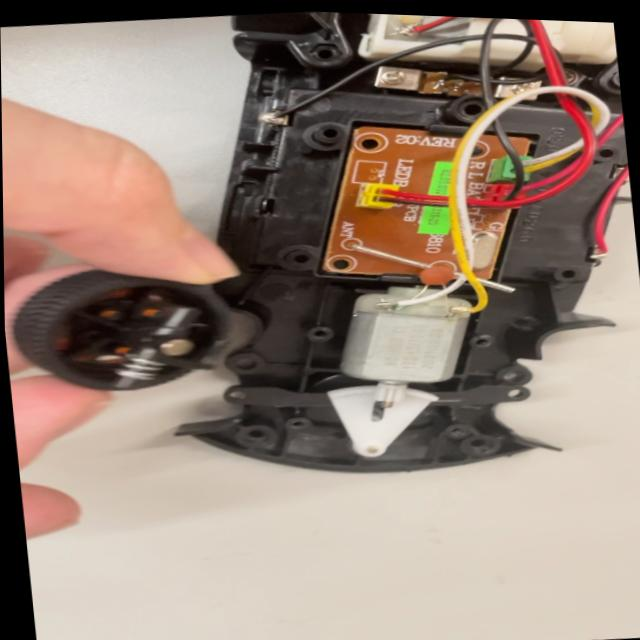motor: (334, 279, 473, 417)
wheel: (19, 267, 239, 404)
